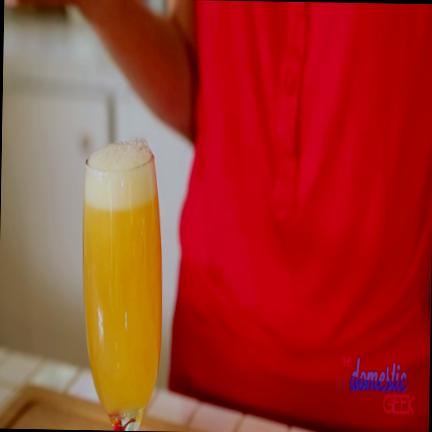container: (83, 139, 161, 429)
fluid: (83, 156, 161, 415)
fluid-surface: (89, 141, 151, 173)
